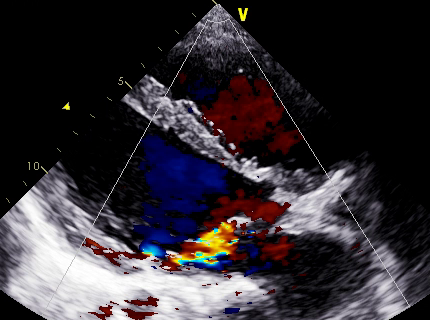MR: (147, 212, 234, 273)
